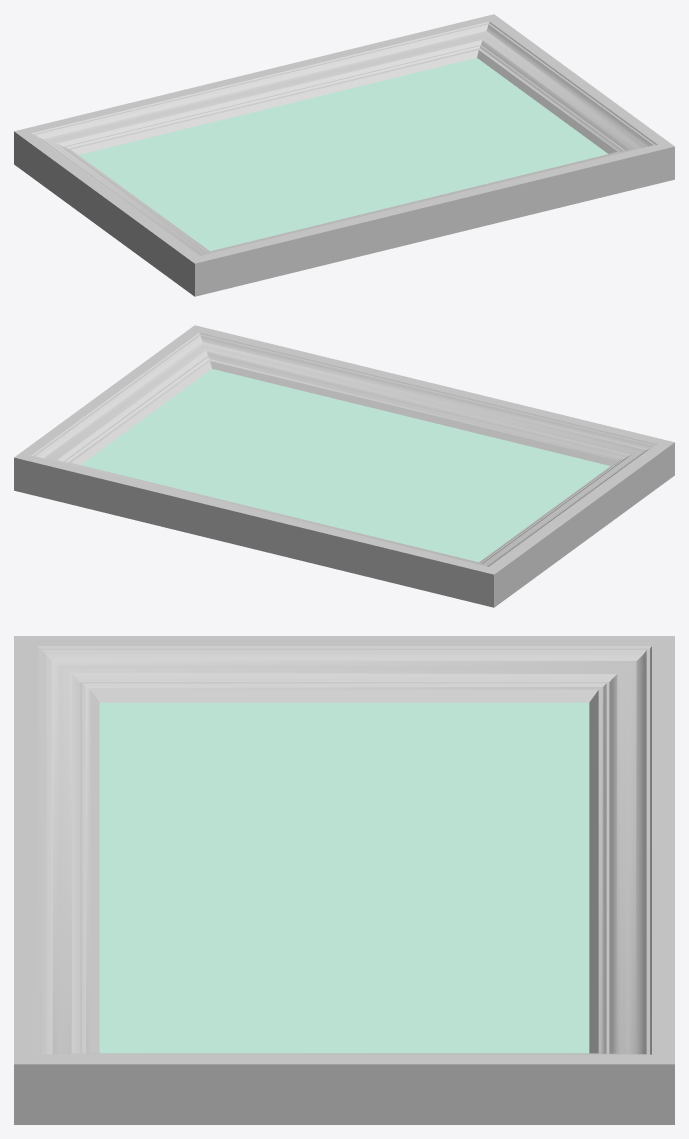
The model's file is painting-005.glb.
3 renders of one model, top to bottom at view 1: azimuth 30°, elevation 25°; view 2: azimuth 150°, elevation 25°; view 3: azimuth 270°, elevation 25°, orthographic. The views are drawn at different scales.
Parts seen in each view (by area): view 1: frame, mirror; view 2: frame, mirror; view 3: mirror, frame.
Boxes of the visible parts, x1,y1,x2,y2 form: frame: (14, 14, 674, 296); mirror: (79, 58, 607, 251); frame: (14, 325, 674, 607); mirror: (81, 369, 609, 562); mirror: (99, 702, 589, 1053); frame: (14, 636, 674, 1124).
Bounding box in the file's own units: 1.19 × 0.0783 × 0.775.
